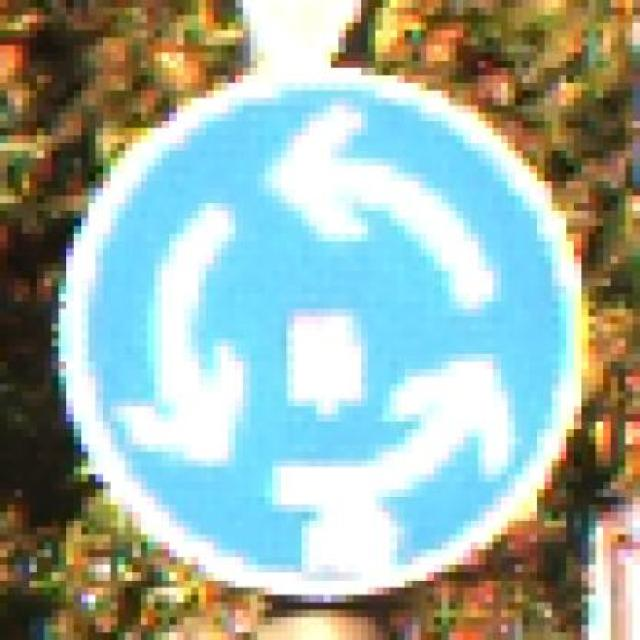Round-About: (29, 45, 611, 602)
